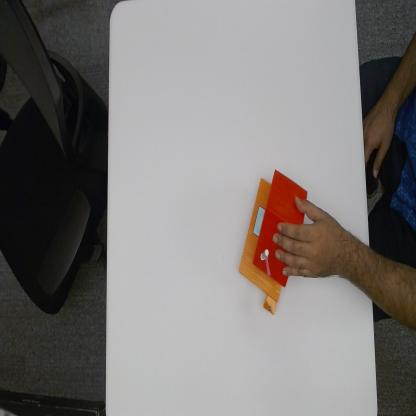Arm: (340, 223, 372, 296)
Hand: (277, 200, 340, 280)
House: (239, 171, 308, 313)
